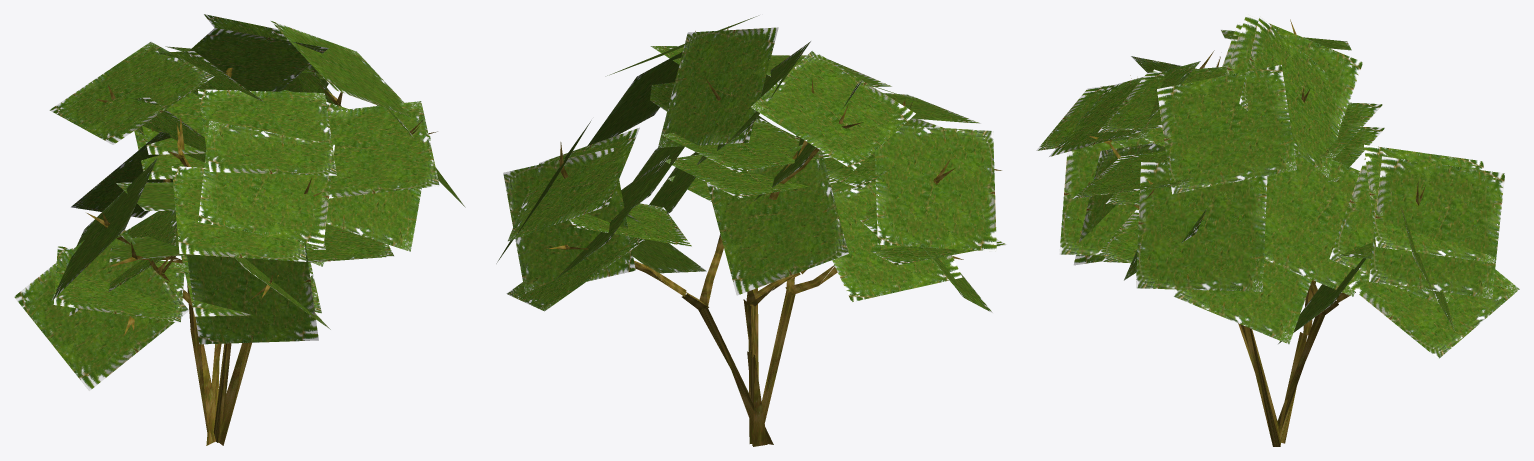
Rendered from SavannahTree.gltf.
The picture shows the model from 3 angles, left to right: view 1: azimuth 30°, elevation 25°; view 2: azimuth 150°, elevation 25°; view 3: azimuth 270°, elevation 25°; orthographic projection. The views are drawn at different scales.
Visible parts, largest first — view 1: SavannahTreeLeaves, SavannahTree; view 2: SavannahTreeLeaves, SavannahTree; view 3: SavannahTreeLeaves, SavannahTree.
Boxes of the visible parts, x1,y1,x2,y2 form: SavannahTreeLeaves: (14,14,465,390); SavannahTree: (87,67,437,445); SavannahTreeLeaves: (496,15,1006,312); SavannahTree: (545,26,1001,446); SavannahTreeLeaves: (1036,14,1519,359); SavannahTree: (1087,19,1425,446).
Bounding box in the file's own units: 315 × 319 × 330.
2 materials, 2 textured.
